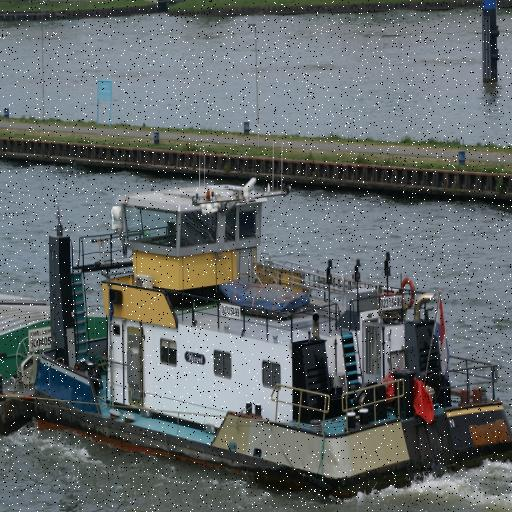tugboat: (32, 174, 512, 511)
